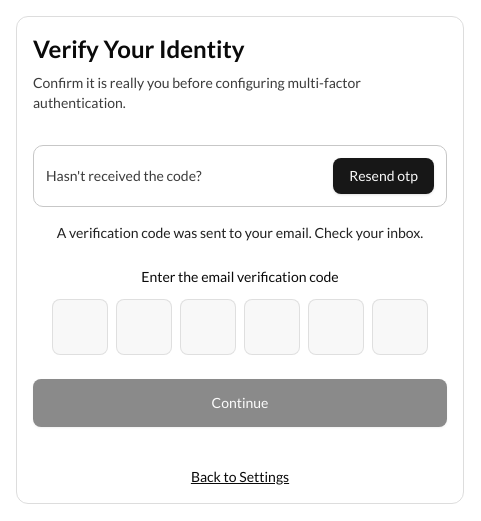
Test: MfaResetVerificationForm resend cooldown › manual resend › sends again once the cooldown has expired
This screenshot has width=481, height=521.
Click the button "Resend otp" at [384, 176], box [333,158,434,194]
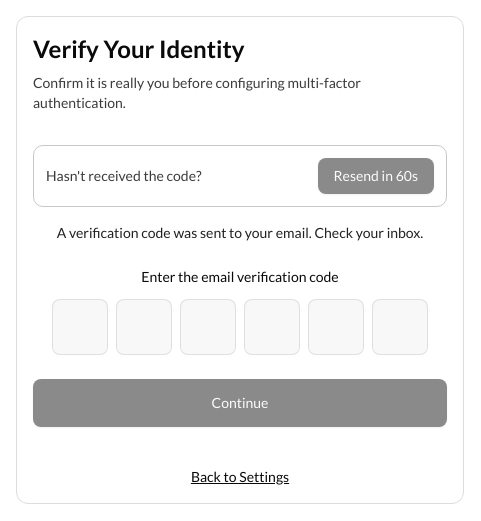
Expected: the button "Resend in 60s" is shown, [318,158,434,194]
